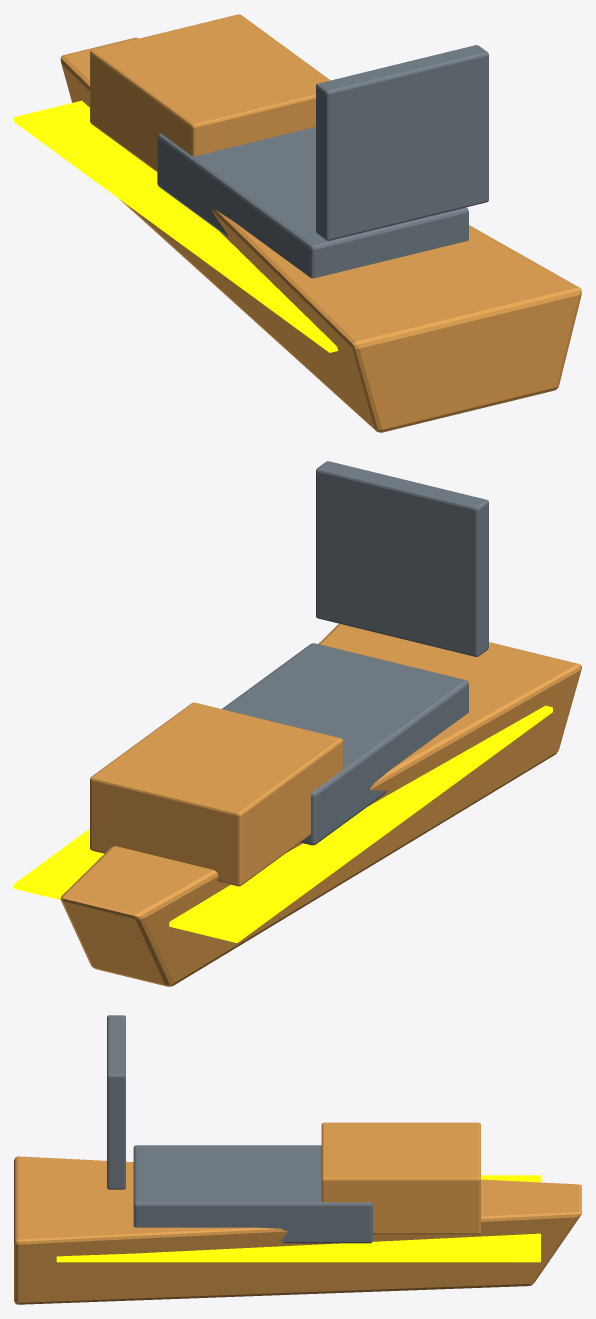
Rendered from boat_workboat.glb.
3 renders of one model, top to bottom at view 1: azimuth 30°, elevation 25°; view 2: azimuth 150°, elevation 25°; view 3: azimuth 270°, elevation 25°, orthographic. The views are drawn at different scales.
Parts seen in each view (by area): view 1: Workboat, SalvageAFrame, CargoHold, Workboat_Deck, Workboat_NeonTrim; view 2: Workboat, CargoHold, SalvageAFrame, Workboat_Deck, Workboat_NeonTrim; view 3: Workboat, Workboat_Deck, CargoHold, Workboat_NeonTrim, SalvageAFrame.
Part boxes in pixels (x1,y1,x2,y2): Workboat: (60, 37, 581, 432); SalvageAFrame: (316, 45, 488, 240); CargoHold: (90, 14, 330, 171); Workboat_Deck: (157, 126, 468, 278); Workboat_NeonTrim: (14, 100, 338, 352); Workboat: (60, 623, 581, 986); CargoHold: (90, 702, 343, 886); SalvageAFrame: (316, 461, 488, 656); Workboat_Deck: (222, 643, 468, 845); Workboat_NeonTrim: (14, 705, 552, 942); Workboat: (14, 1156, 581, 1304); Workboat_Deck: (133, 1145, 372, 1243); CargoHold: (321, 1122, 480, 1234); Workboat_NeonTrim: (56, 1175, 540, 1262); SalvageAFrame: (107, 1015, 125, 1189).
Size of the model in its own units: 3.74 by 4.63 by 10.47.
